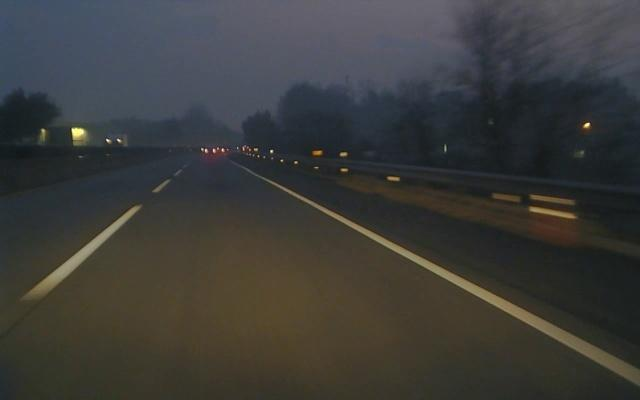lane: (246, 169, 640, 387), (24, 170, 182, 299)
